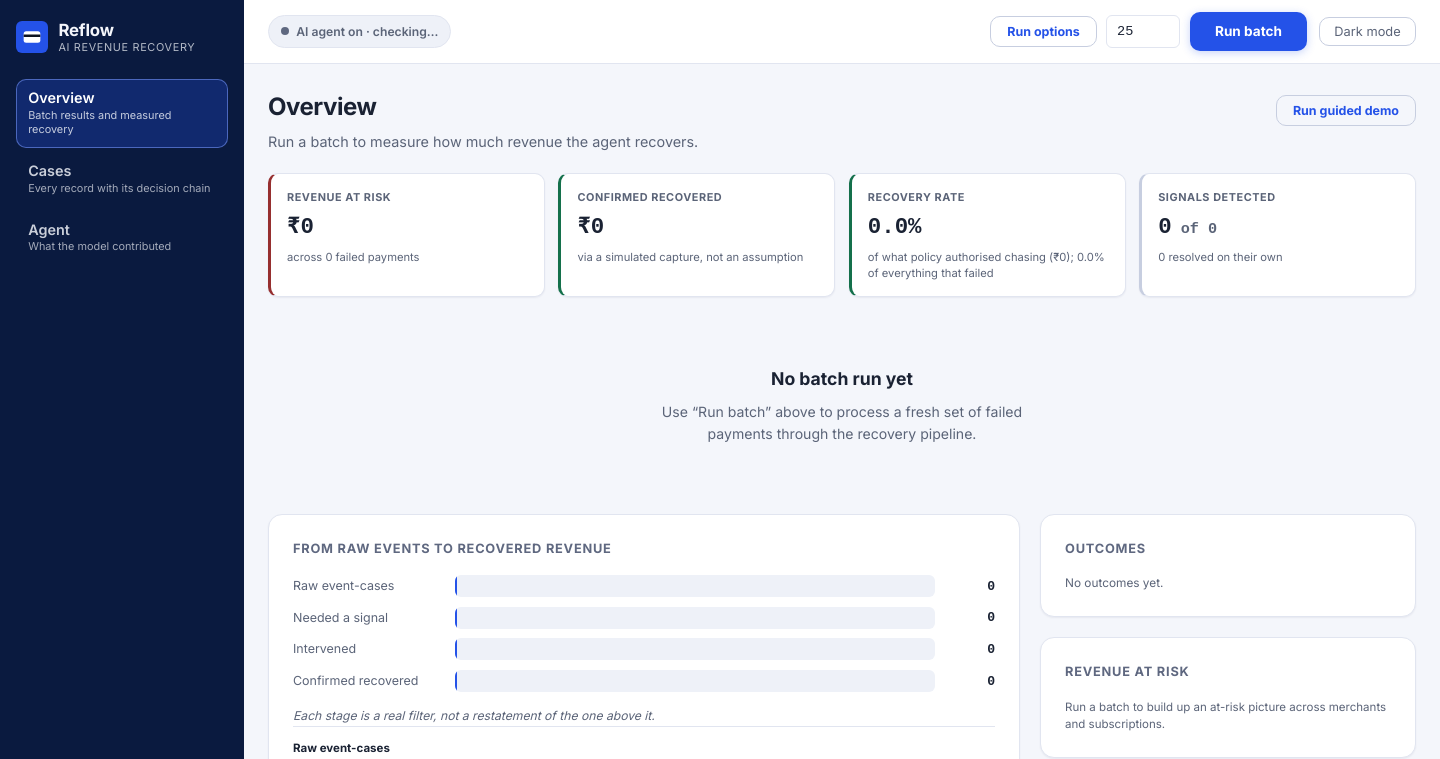
Test: App › keeps the adversarial demo cases reachable from the Agent view
Click the button with test id "nav-agent".
click(122, 237)  # box [16,210,228,265]
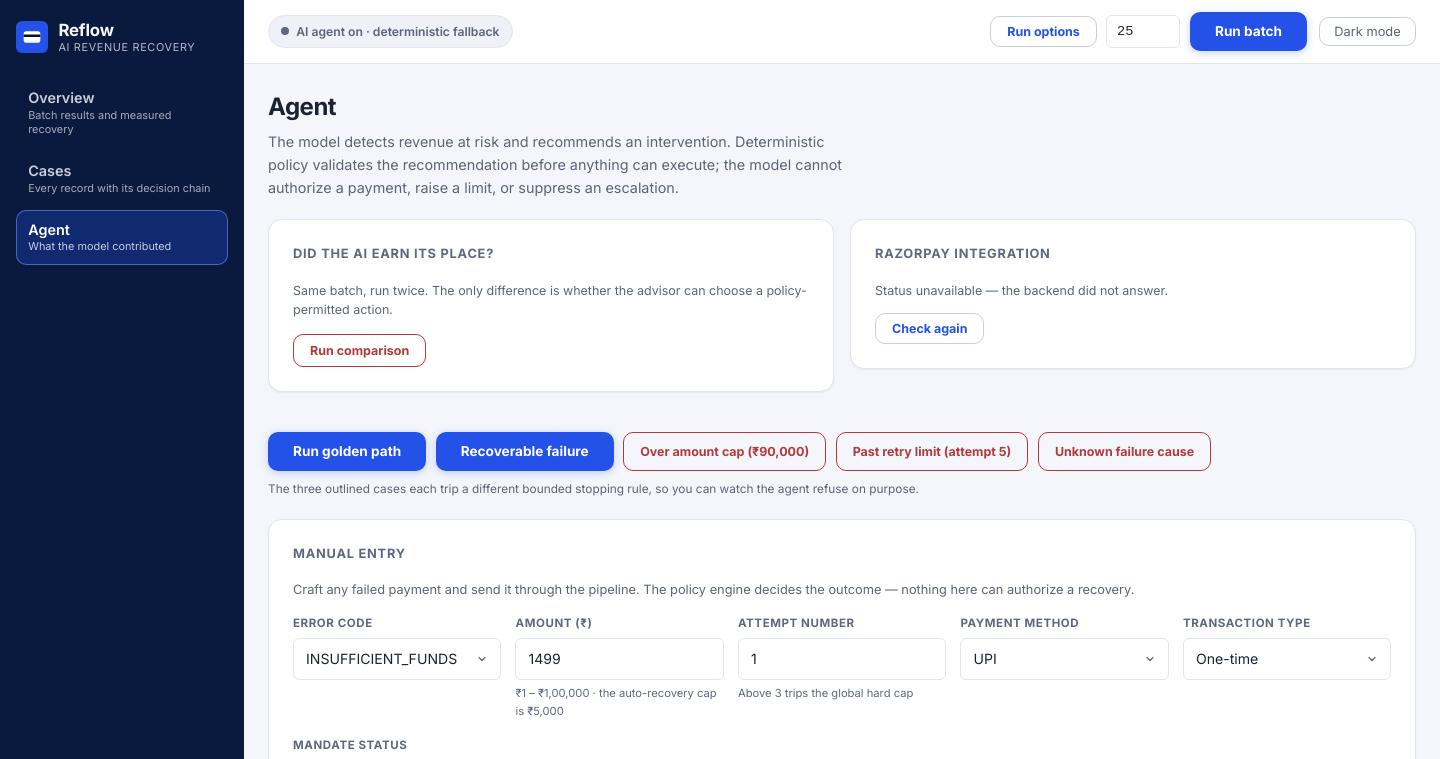
Result: the button with test id "agent-case-over-cap" is shown at [623,432,826,471]
Result: the button with test id "agent-case-retry-limit" is shown at [836,432,1028,471]
Result: the button with test id "agent-case-unknown" is shown at [1038,432,1211,471]
